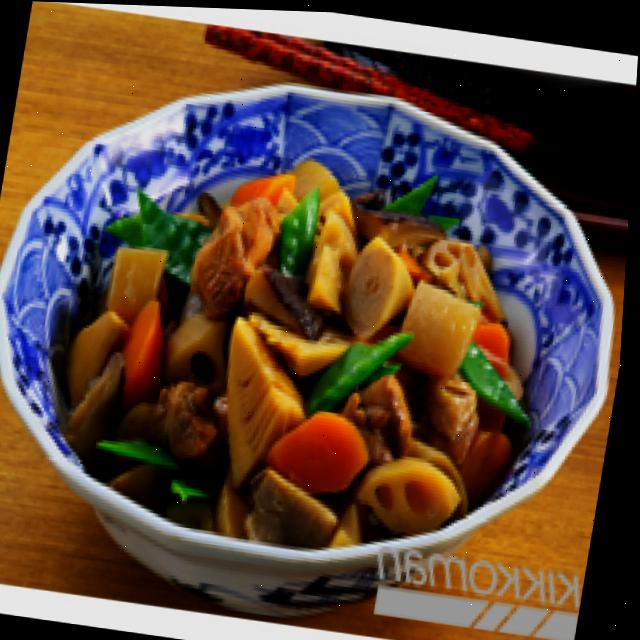鸡肉料理 含炸鸡: (0, 51, 638, 553)
